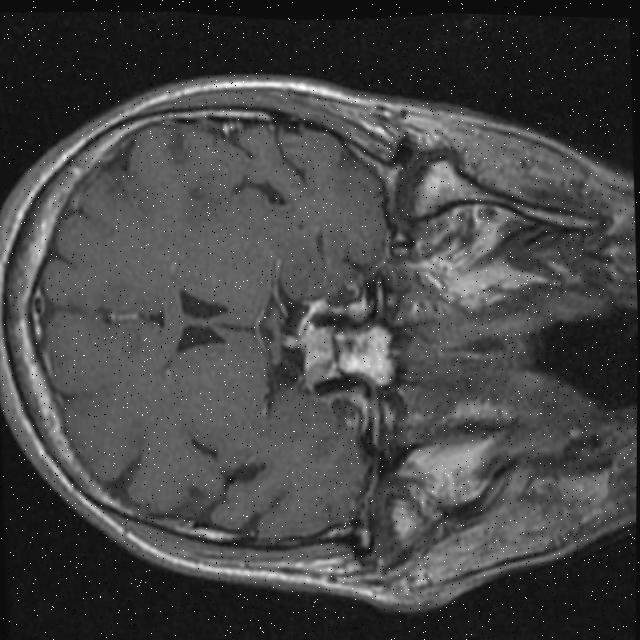Pituitary: (302, 320, 394, 388)
